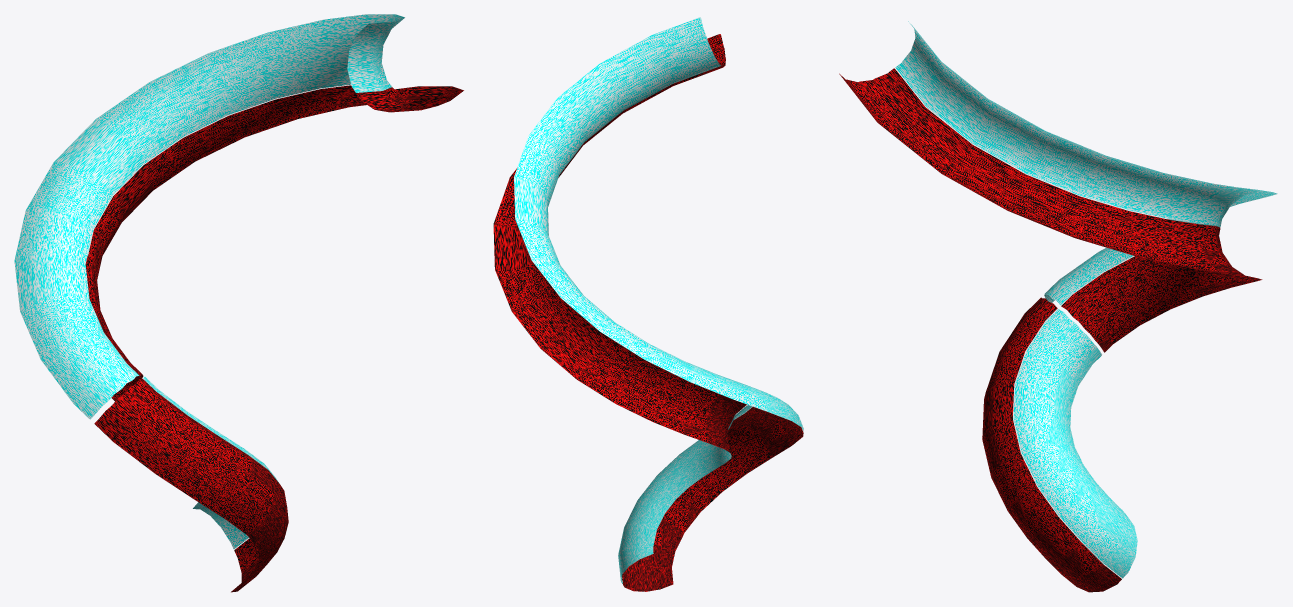
File: SM_Helix_04_LGS.fbx
3 views of the same model, side by side, from view 1: azimuth 30°, elevation 25°; view 2: azimuth 150°, elevation 25°; view 3: azimuth 270°, elevation 25° (orthographic). The views are drawn at different scales.
Visible parts, largest first — view 1: SM_Helix_04_LGS; view 2: SM_Helix_04_LGS; view 3: SM_Helix_04_LGS.
Boxes of the visible parts, x1=… form: SM_Helix_04_LGS: x1=14, y1=14, x2=463, y2=592; SM_Helix_04_LGS: x1=493, y1=17, x2=803, y2=591; SM_Helix_04_LGS: x1=839, y1=21, x2=1277, y2=592.
Size of the model in its own units: 32.39 by 53.75 by 36.84.
